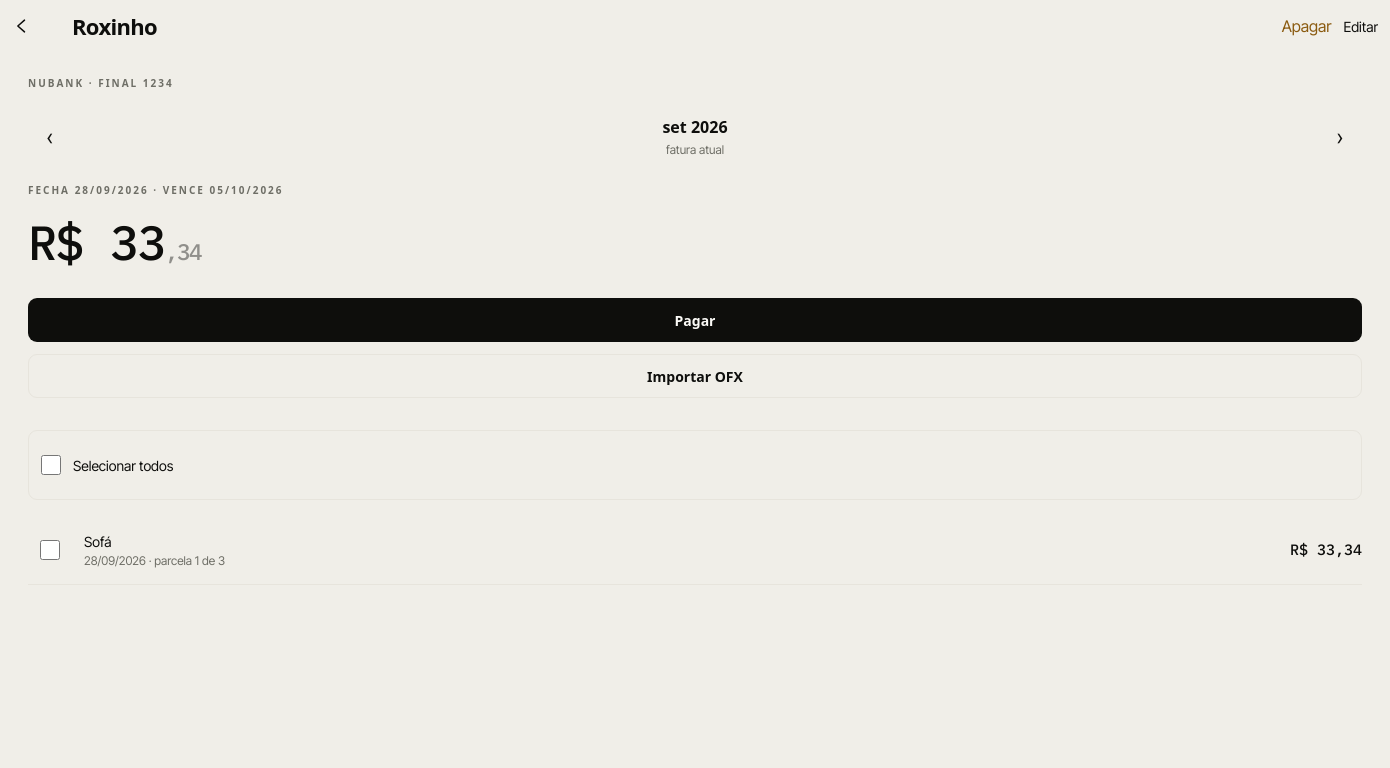
CartaoDetalhe › mostra botão 'Excluir selecionados' quando há seleção
Step 1. Click the checkbox named "Selecionar Sofá" → (50, 550), box top-left (40, 540), bottom-right (60, 560)
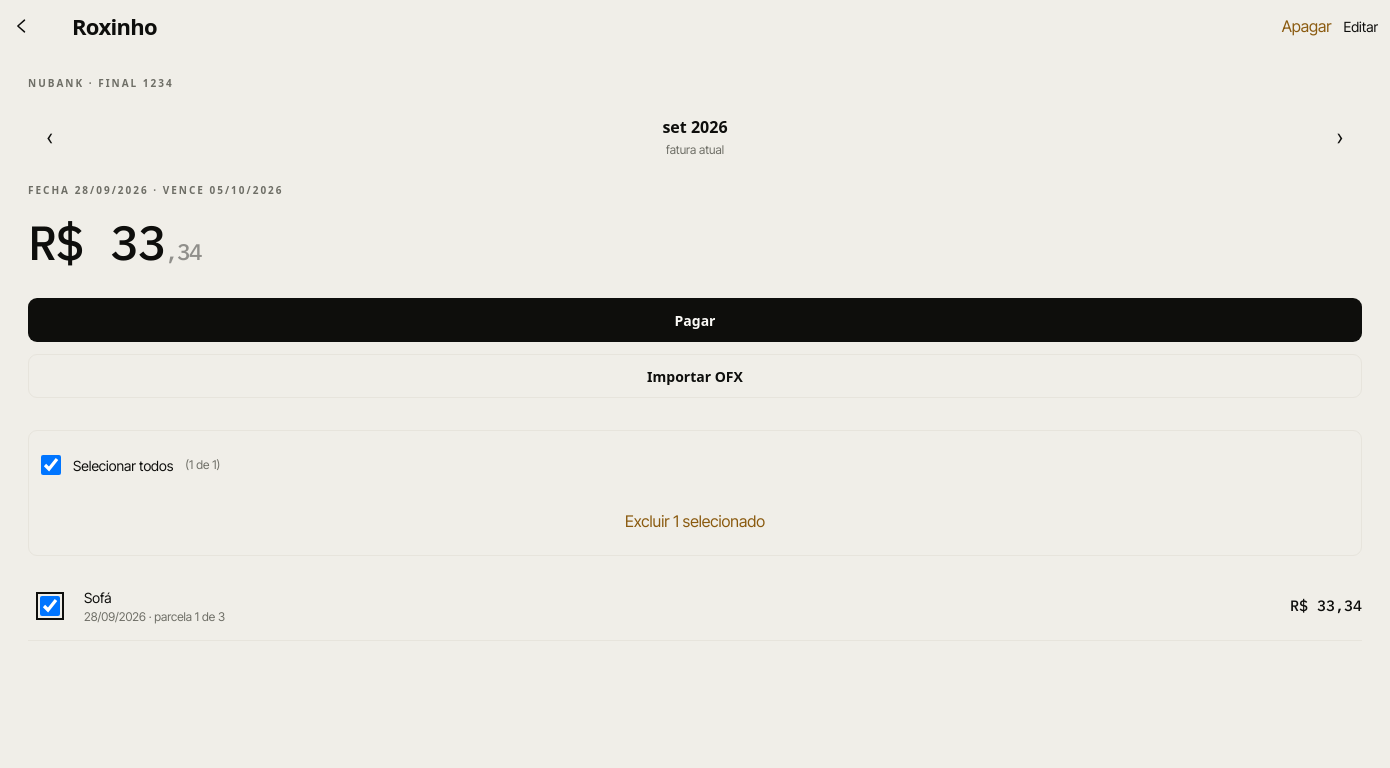
Check: the button "Excluir 1 selecionado" is shown, box top-left (41, 499), bottom-right (1349, 543)
